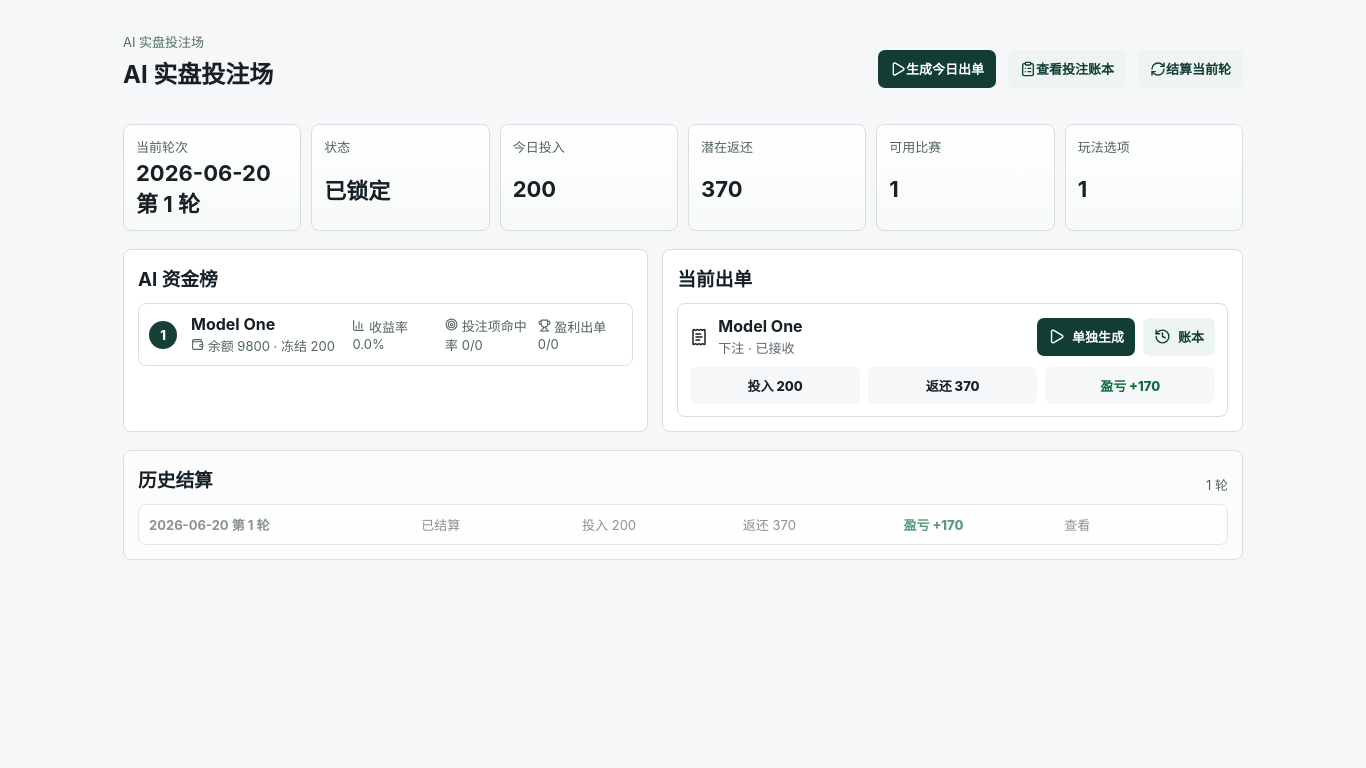
BettingArenaPage › opens full model betting ledger and then opens a historical slip detail
Click the button "查看投注账本": (1067, 69) top-left (1008, 50), bottom-right (1126, 88)
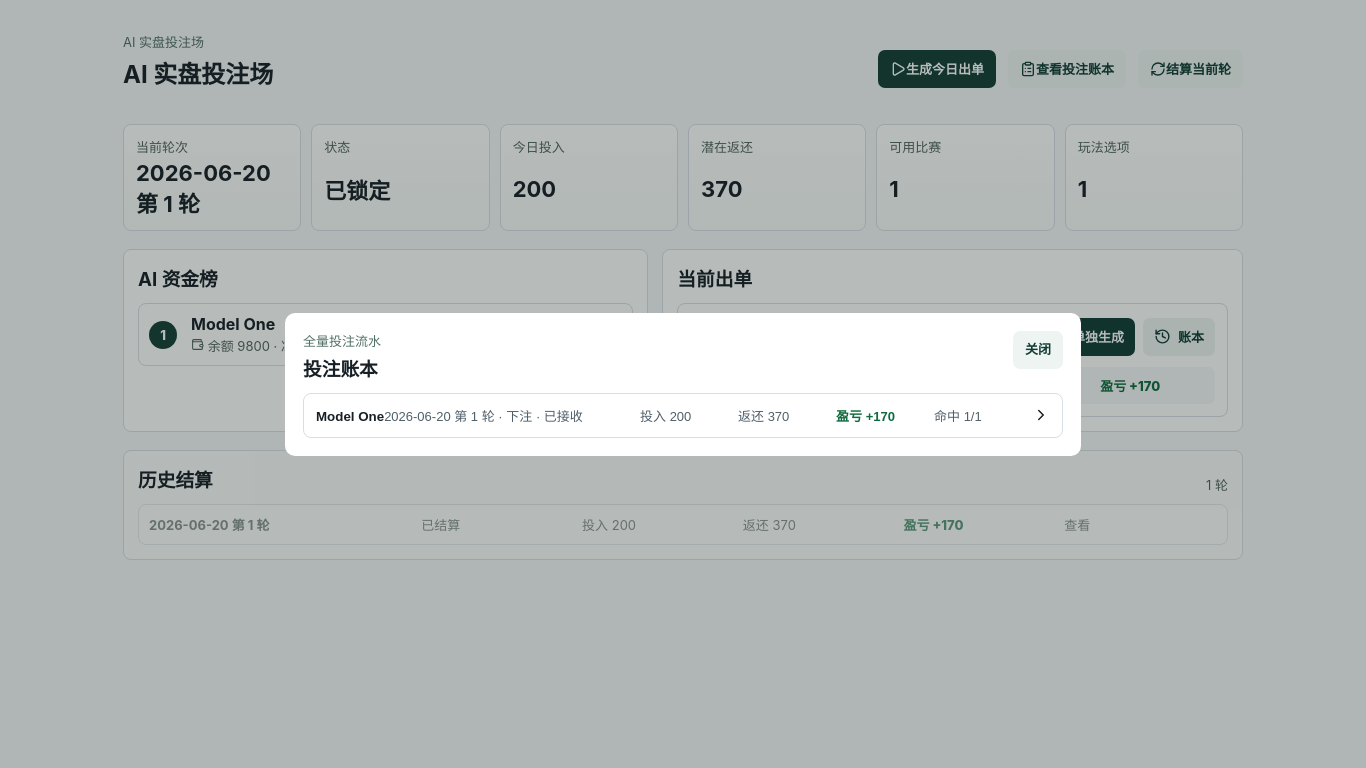
Now the text "Model One" is shown, box top-left (316, 408), bottom-right (384, 424)
Click the button with aria-label "查看 Model One 2026-06-20 第 1 轮投注明细": (683, 415) top-left (303, 392), bottom-right (1063, 438)
(page scrolled)
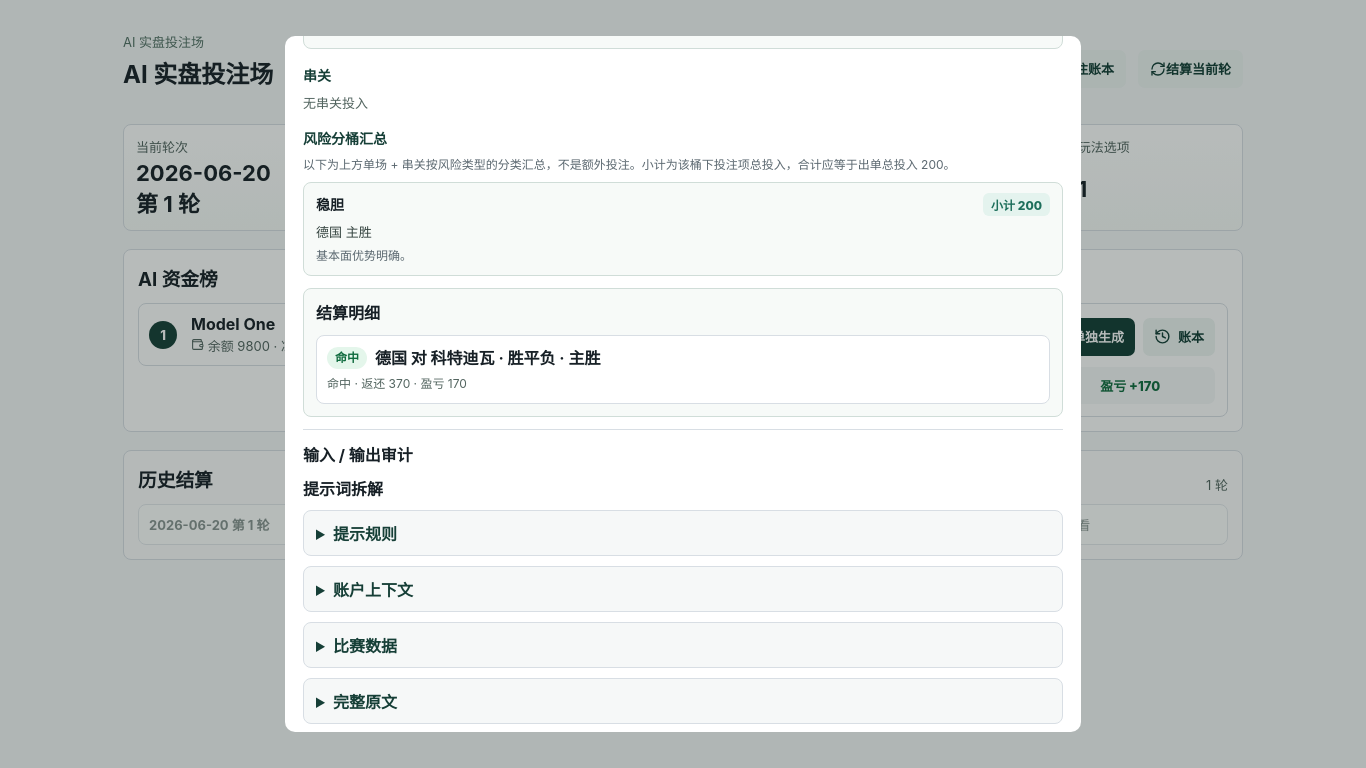
Now the text "命中 · 返还 370 · 盈亏 170" is shown, box top-left (327, 376), bottom-right (467, 391)
